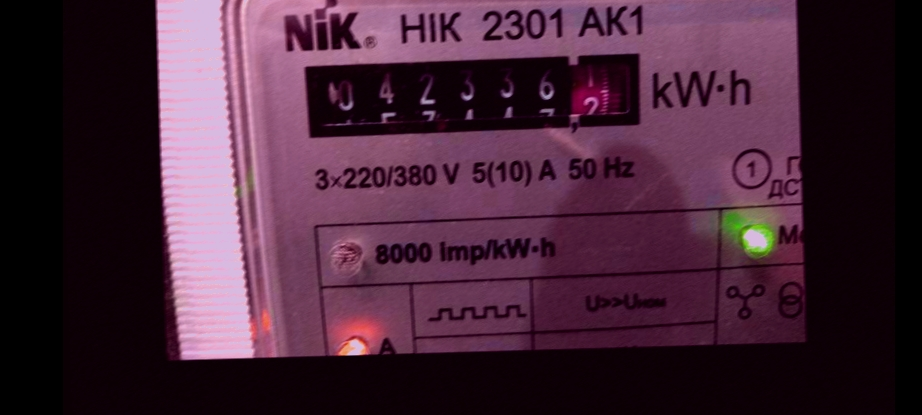0: (335, 75, 356, 111)
1: (582, 59, 596, 88)
2: (415, 69, 436, 105), (580, 93, 600, 115)
3: (494, 62, 515, 99), (456, 64, 476, 102)
4: (375, 67, 395, 104)
6: (533, 64, 556, 100)
screen: (296, 42, 650, 145)
